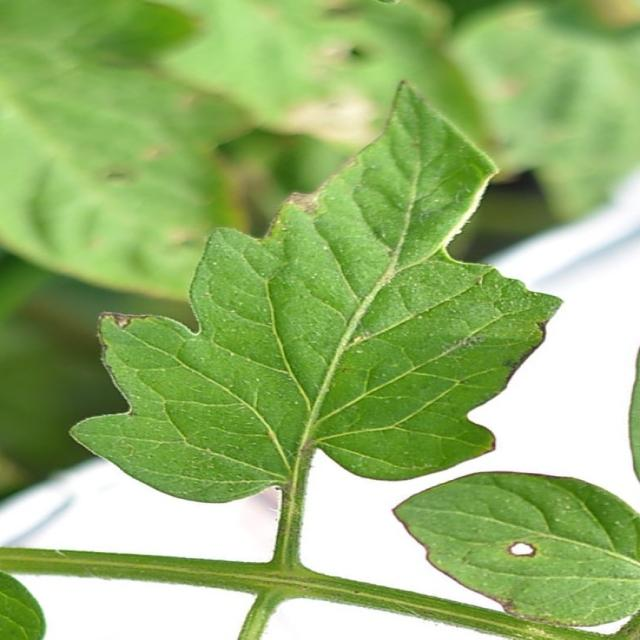infected: (491, 529, 545, 561)
